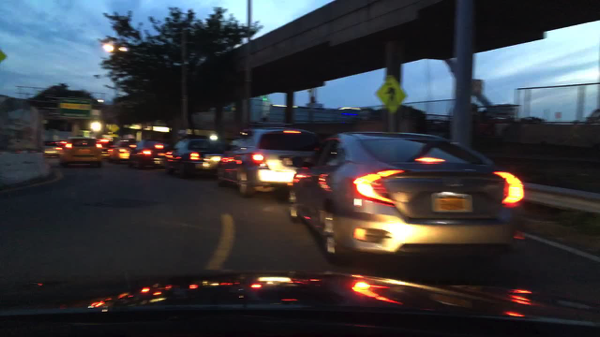car: (290, 130, 527, 270), (218, 128, 325, 198), (165, 138, 231, 181), (59, 136, 103, 168), (130, 138, 173, 169), (108, 140, 140, 162), (42, 141, 64, 156), (100, 139, 114, 159)
traffic sign: (374, 75, 407, 114), (60, 98, 93, 118), (0, 47, 7, 64), (109, 124, 120, 133)
